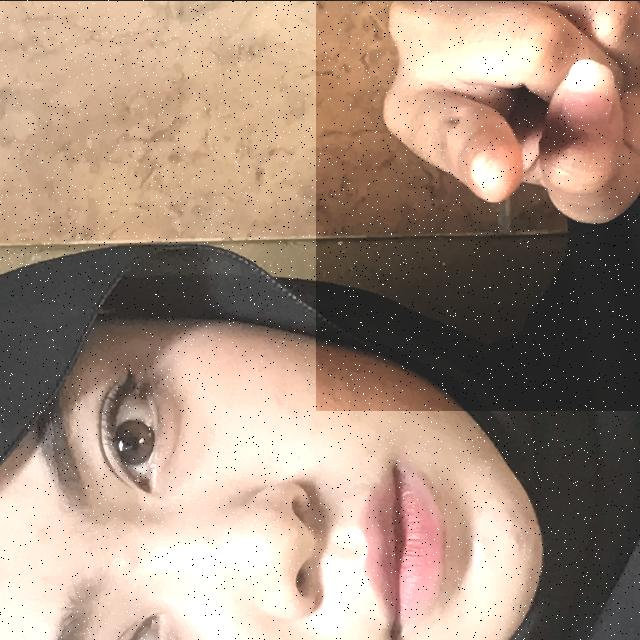kamu: (316, 0, 640, 410)
